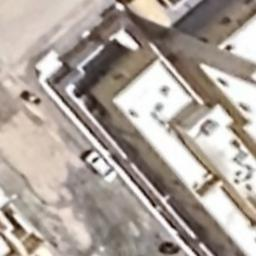sedan: (84, 151, 118, 185)
unknown: (22, 90, 42, 104)
